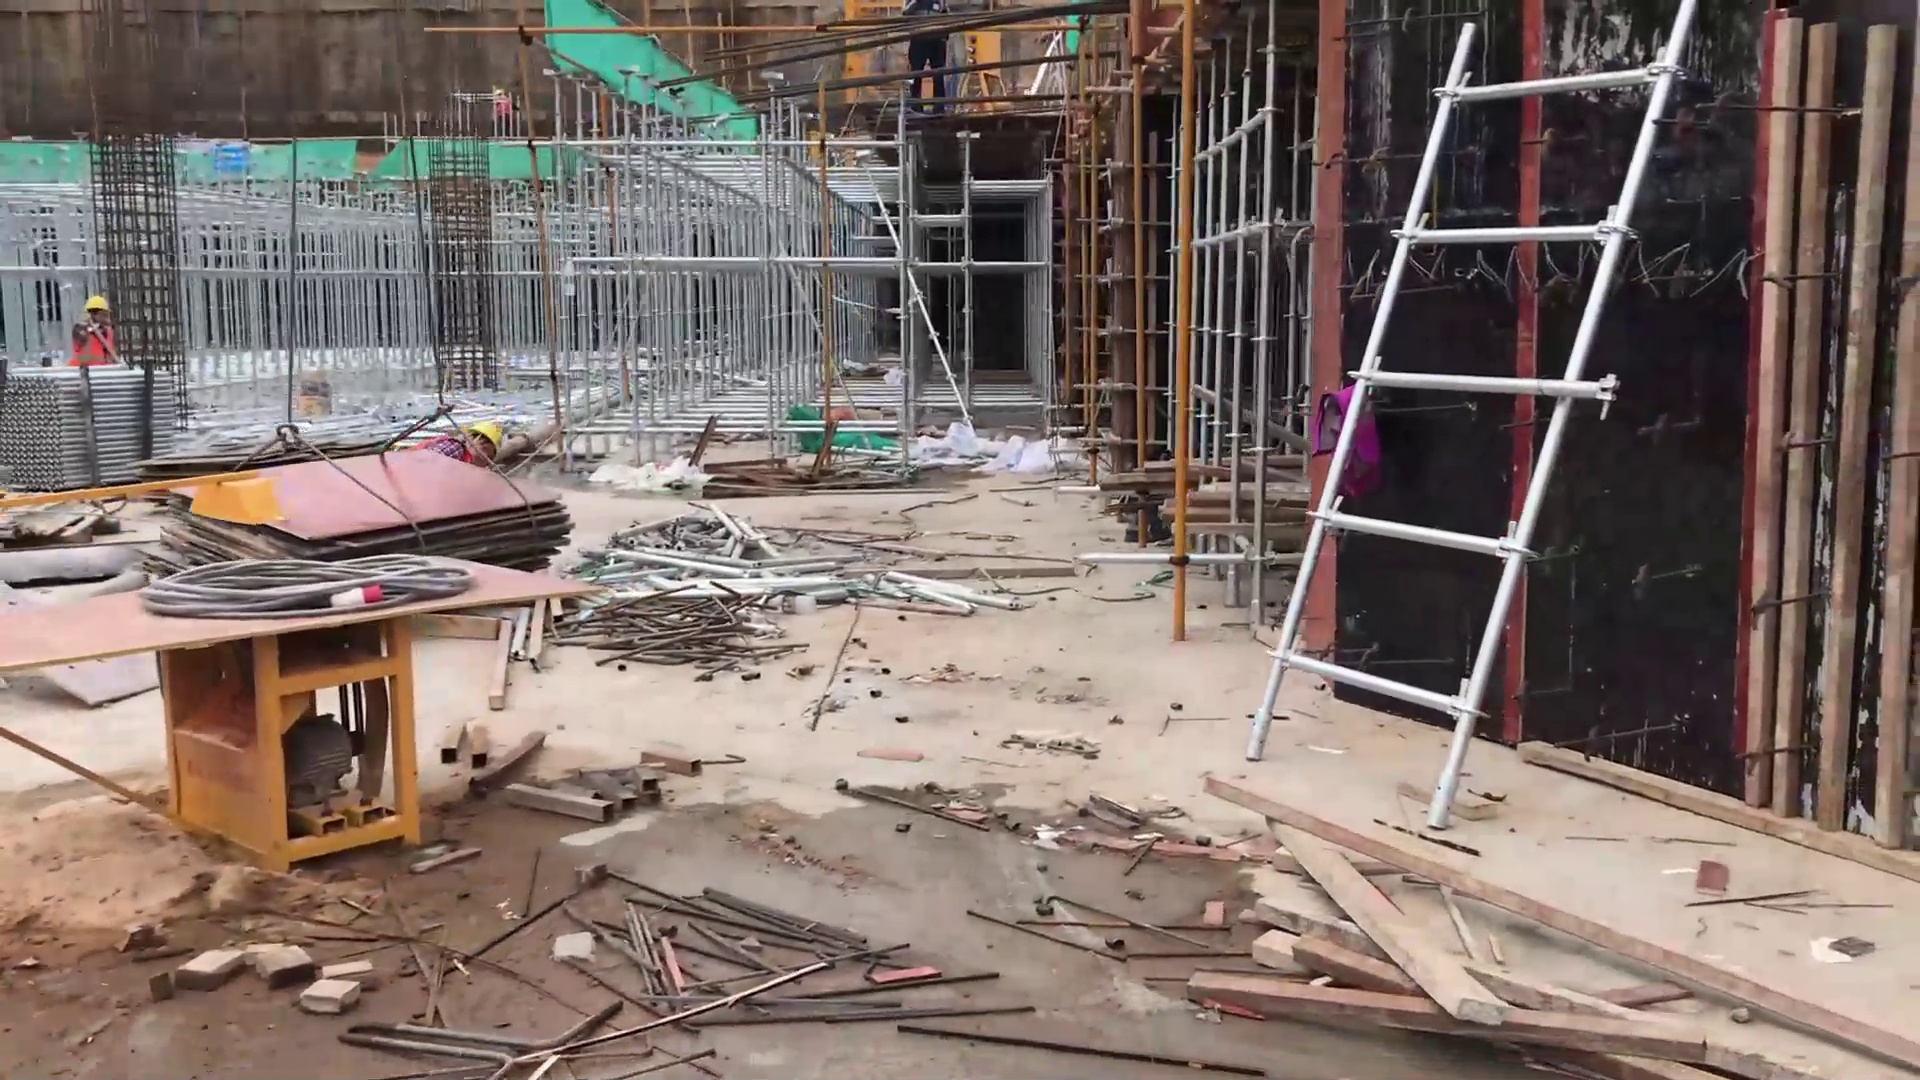board: (152, 443, 581, 601)
helmet: (466, 414, 514, 452), (77, 293, 111, 314)
person: (903, 6, 955, 115), (420, 412, 514, 469), (65, 291, 118, 374)
scaffold: (1, 363, 177, 491)
vest: (64, 318, 117, 363)
